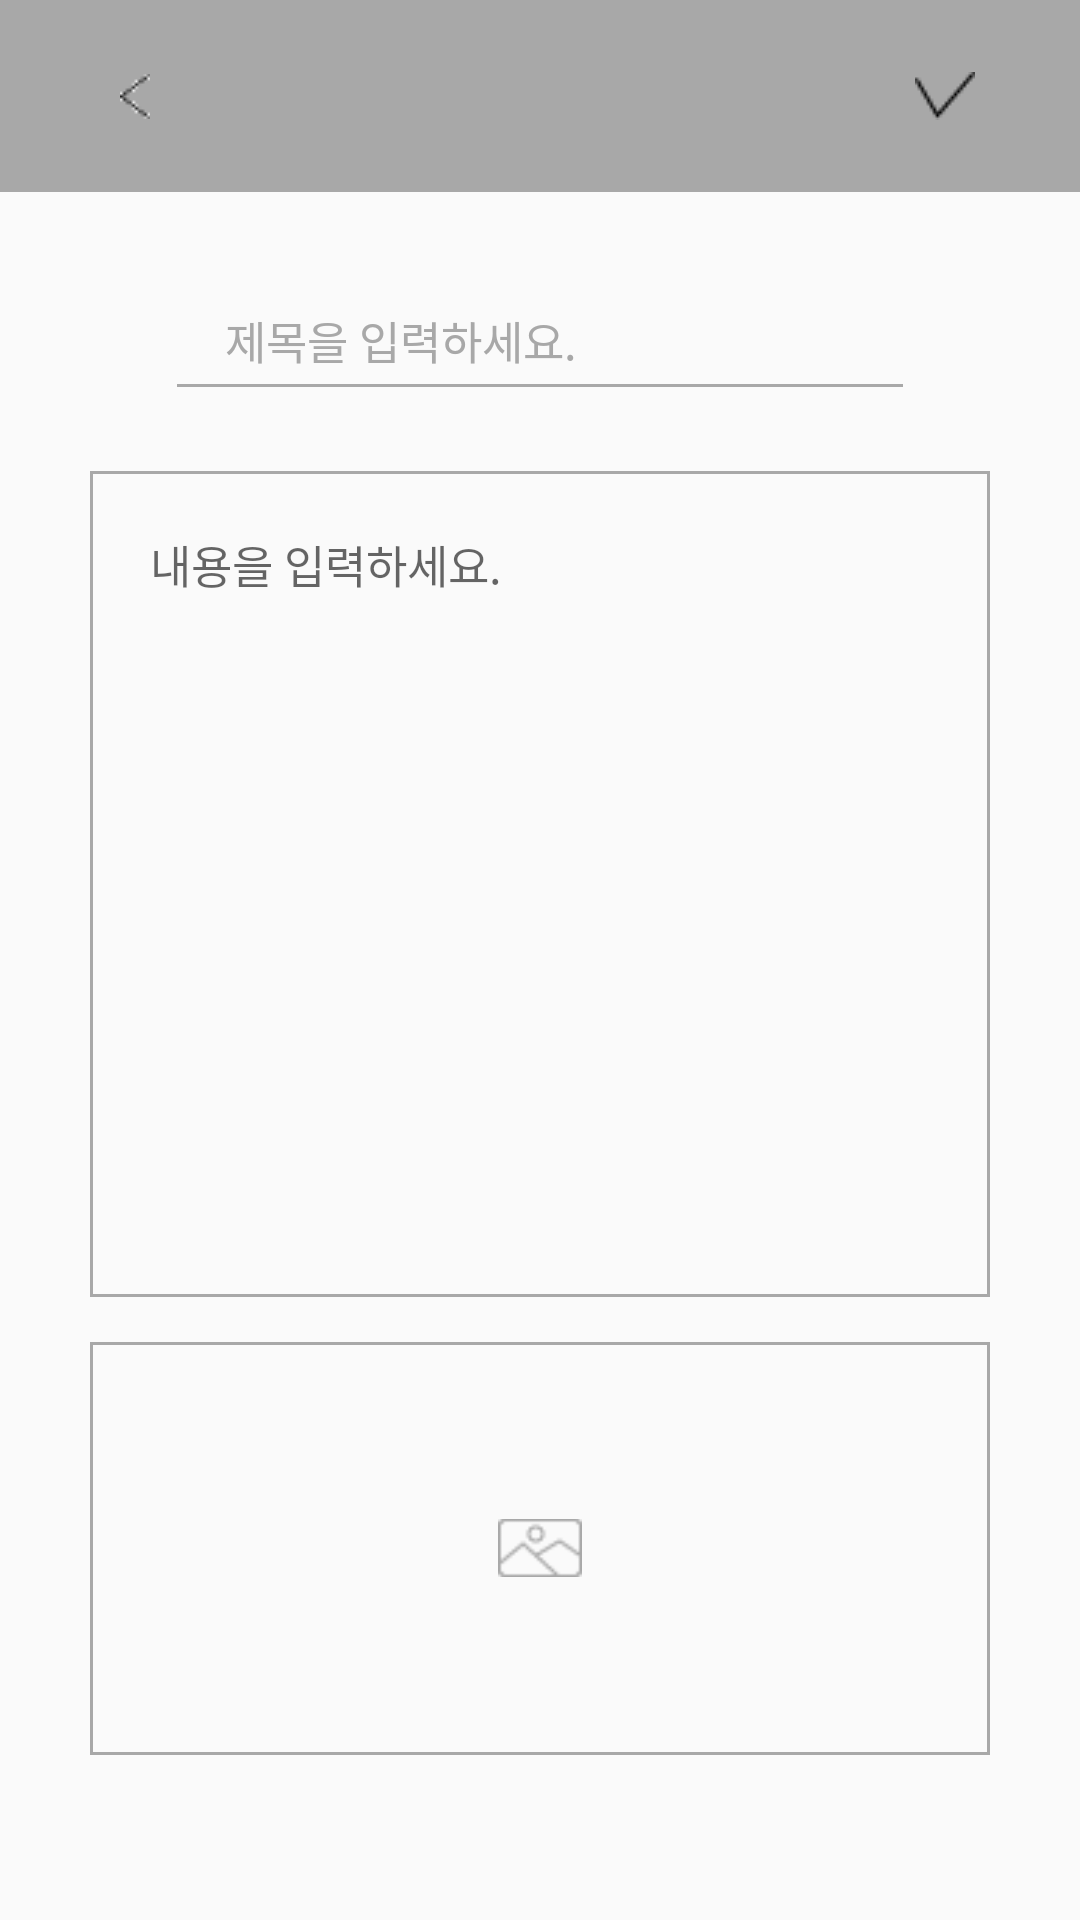

Locate icon controls on the screen. Image size 1080x1920, boxes as bbox(x1, y1, x2, y2).
back: bbox(120, 74, 150, 119)
save: bbox(915, 72, 975, 118)
